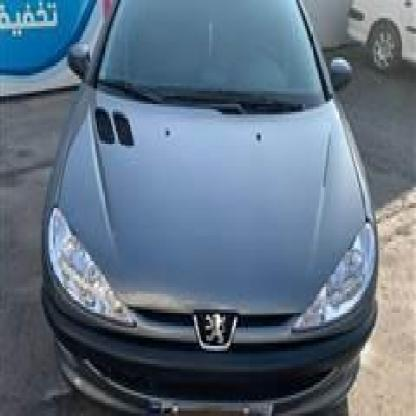Car: (36, 0, 373, 416), (343, 0, 416, 60)
